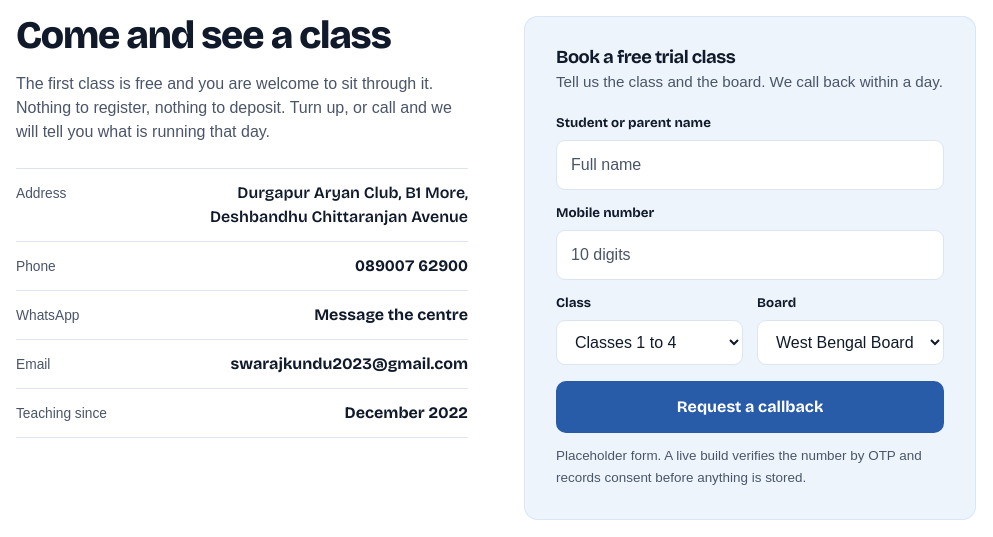
Test: VisitAndEnquire › rejects an empty name
Click the button "Request a callback" at (750, 407), box [556, 381, 944, 433]
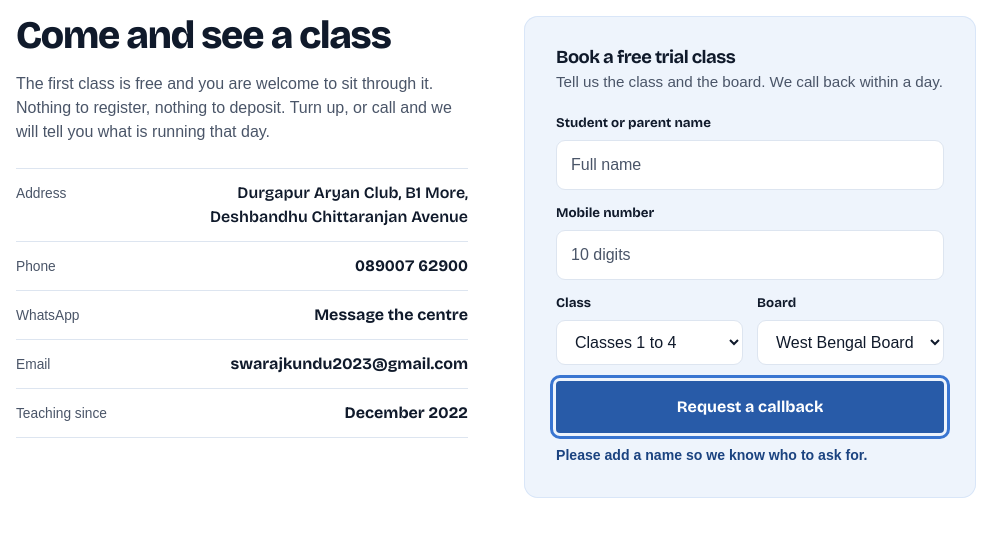
Now the message shows "Please add a name", box [556, 447, 867, 463]
